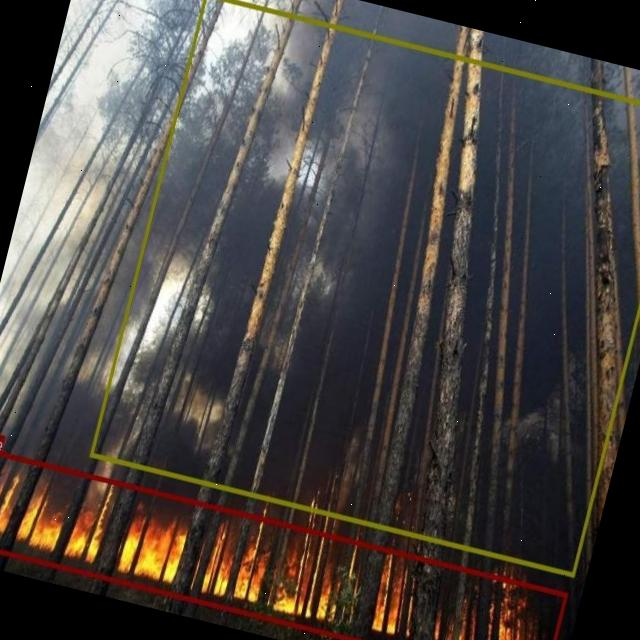fire: (0, 445, 567, 640)
smoke: (89, 0, 640, 576)
